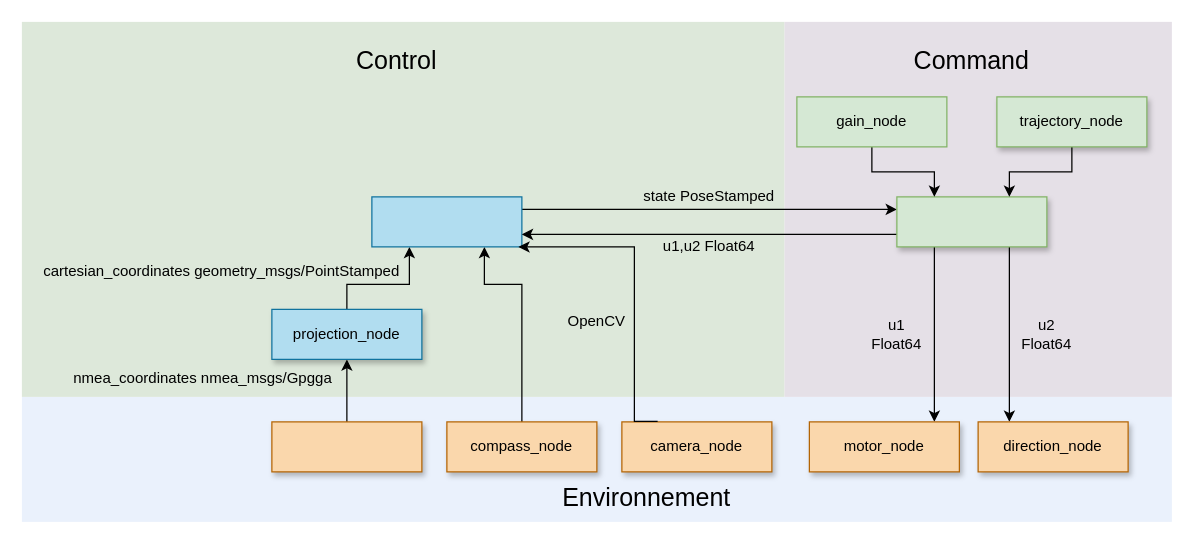
This 1193x543 diagram has some shape labels left out. The centre of each missing label's shape, as x and y in pixels:
"controller_node" belongs at (972,223).
"gnss_node" belongs at (347,448).
"observer_node" belongs at (446,221).
